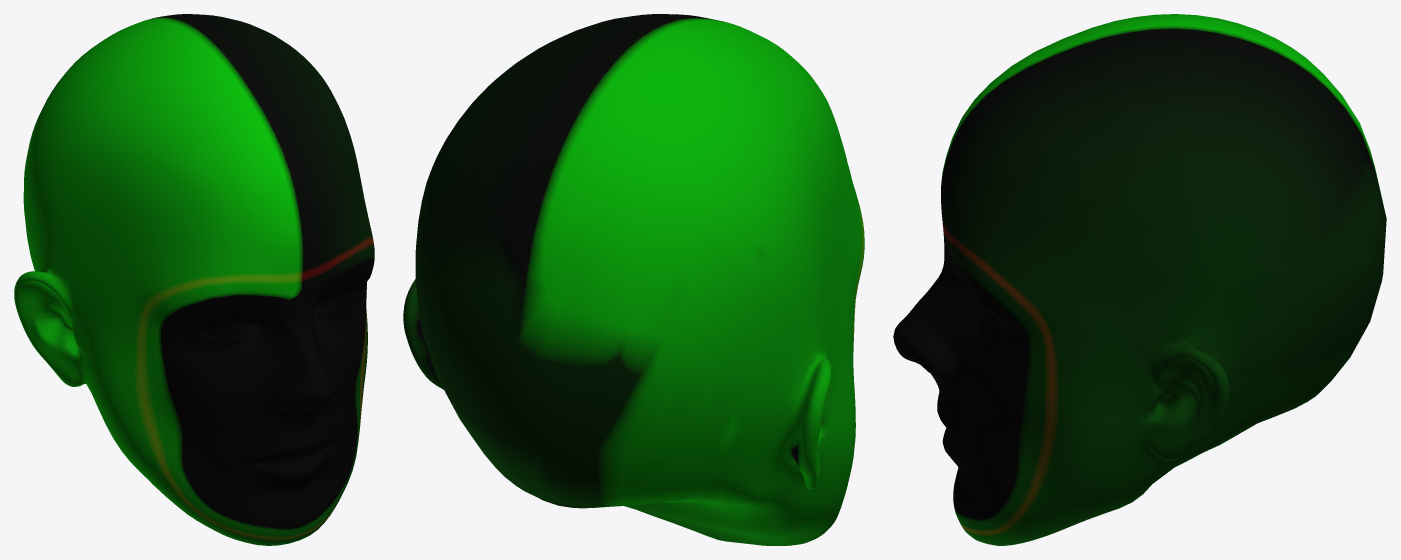
The model's file is mid_eye_head.glb.
3 renders of one model, left to right at view 1: azimuth 30°, elevation 25°; view 2: azimuth 150°, elevation 25°; view 3: azimuth 270°, elevation 25°, orthographic. The views are drawn at different scales.
Parts seen in each view (by area): view 1: head_mesh; view 2: head_mesh; view 3: head_mesh.
Boxes of the visible parts, x1,y1,x2,y2 form: head_mesh: [14, 14, 374, 545]; head_mesh: [403, 14, 864, 545]; head_mesh: [893, 14, 1386, 545].
Bounding box in the file's own units: 5.09 × 6.68 × 5.93.
